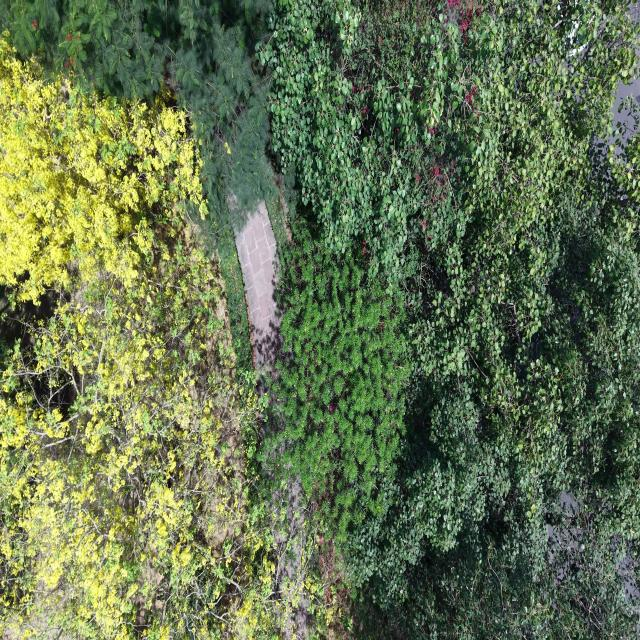DRY_AREA: (234, 201, 278, 370), (274, 479, 310, 638), (612, 78, 639, 145), (613, 78, 639, 143)
PATHWAYS: (234, 201, 278, 371), (273, 478, 309, 639)
VEGETATION_TREE: (0, 0, 639, 638), (259, 0, 639, 637), (0, 41, 274, 638), (0, 227, 272, 638), (259, 0, 635, 290), (0, 0, 272, 369), (0, 0, 272, 218), (0, 41, 205, 302), (271, 224, 409, 540), (204, 219, 252, 371)
